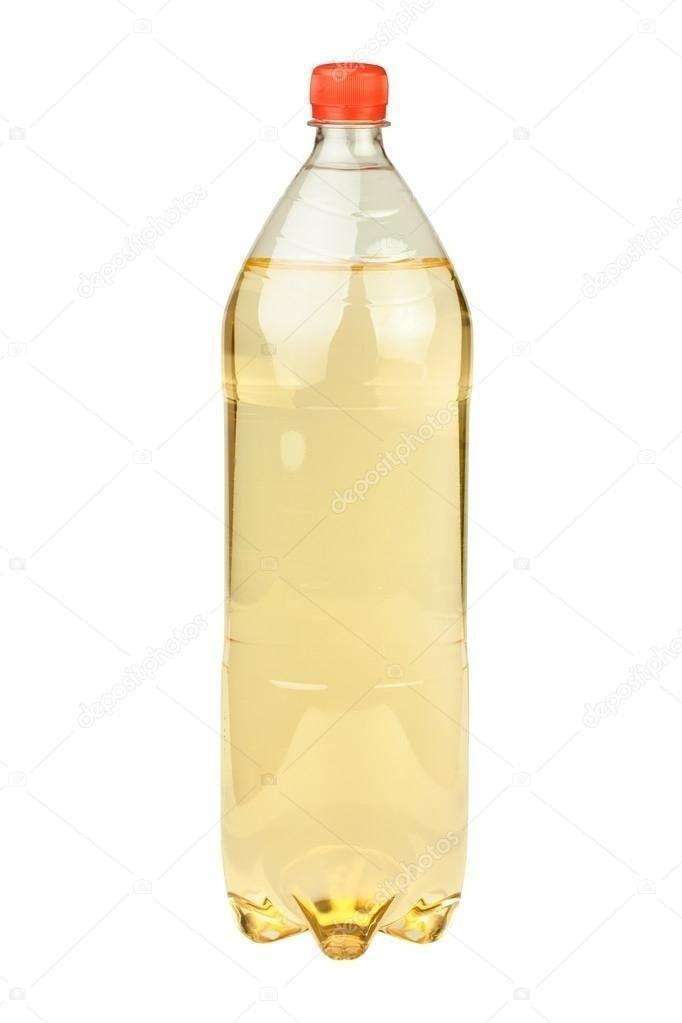bottle-plastic: (202, 51, 480, 977)
